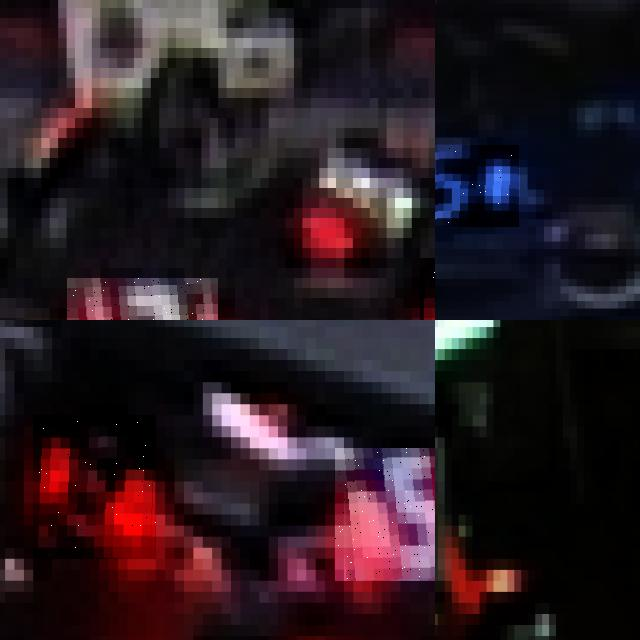B5: (435, 145, 519, 227)
R3: (66, 278, 218, 320)
R5: (33, 415, 156, 559), (334, 448, 435, 580)
